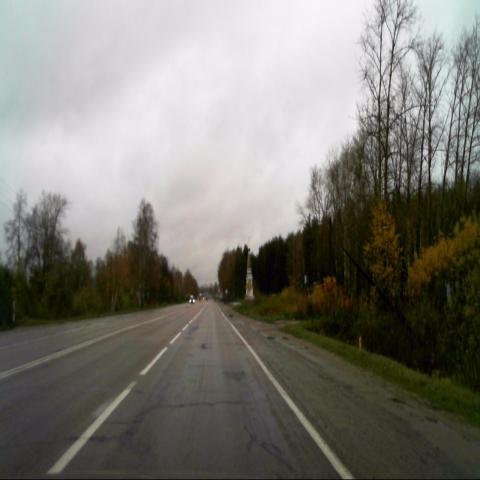2_1: (244, 282, 252, 296)
